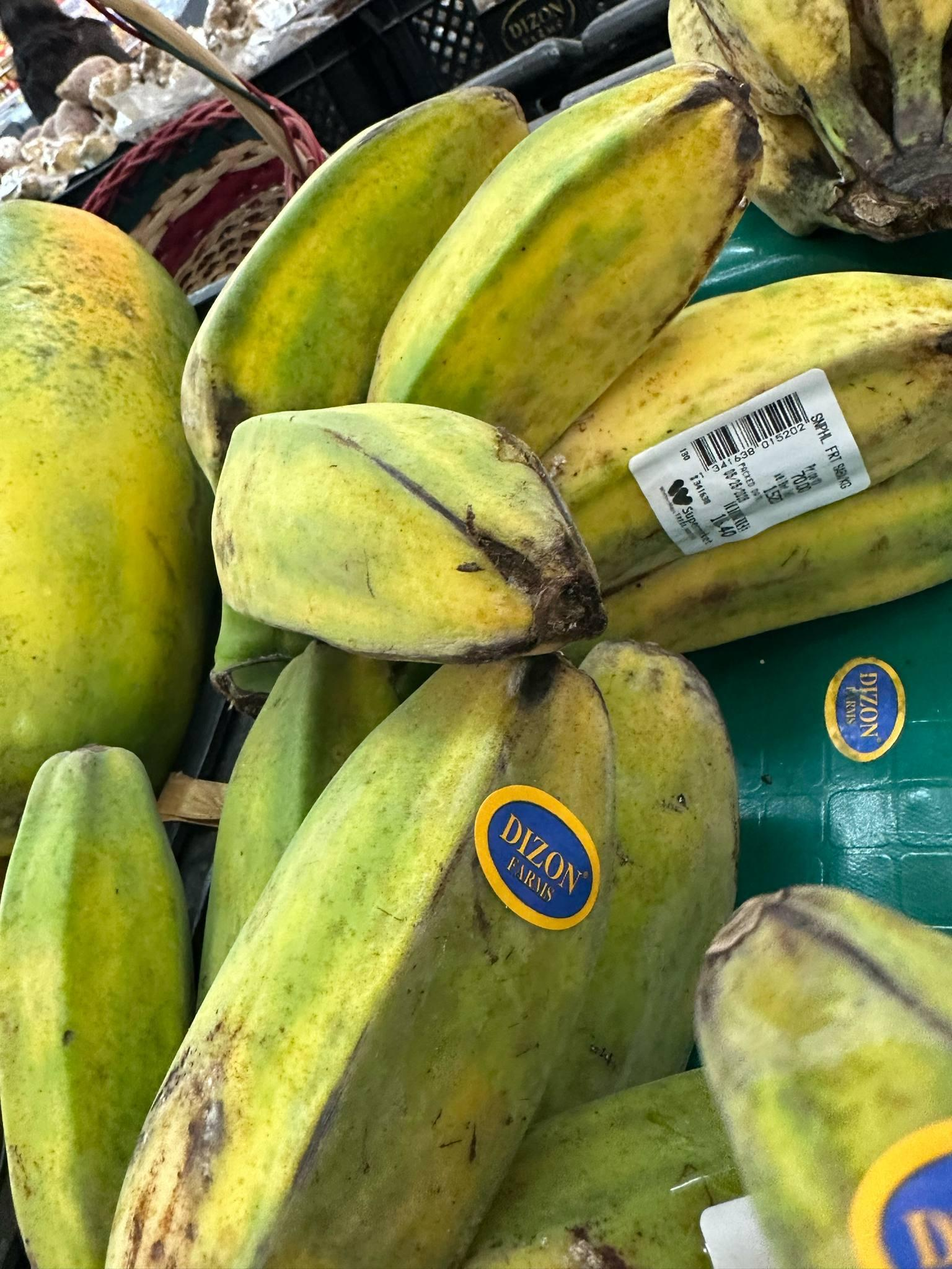underripe: (0, 643, 744, 1268), (177, 60, 951, 658)
